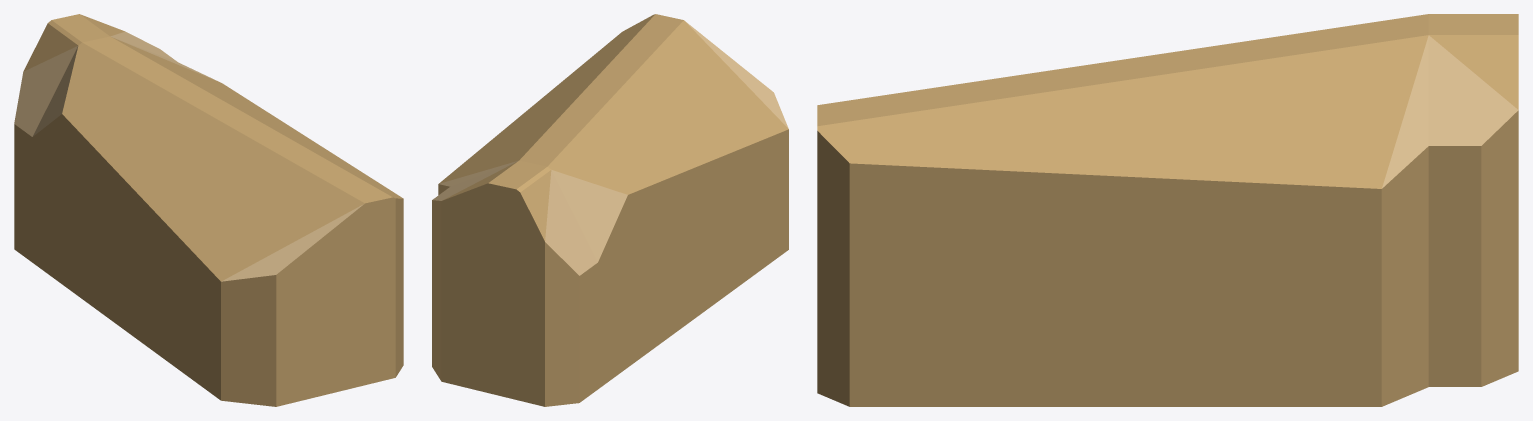
Rendered from desert_rock_3.fbx.
The picture shows the model from 3 angles, left to right: view 1: azimuth 30°, elevation 25°; view 2: azimuth 150°, elevation 25°; view 3: azimuth 270°, elevation 25°; orthographic projection. The views are drawn at different scales.
Parts seen in each view (by area): view 1: desert_rock_3; view 2: desert_rock_3; view 3: desert_rock_3.
Boxes of the visible parts, bbox=[...] form: desert_rock_3: bbox=[14, 14, 403, 406]; desert_rock_3: bbox=[432, 14, 788, 406]; desert_rock_3: bbox=[817, 14, 1518, 406].
Bounding box in the file's own units: 96.38 × 110 × 230.
